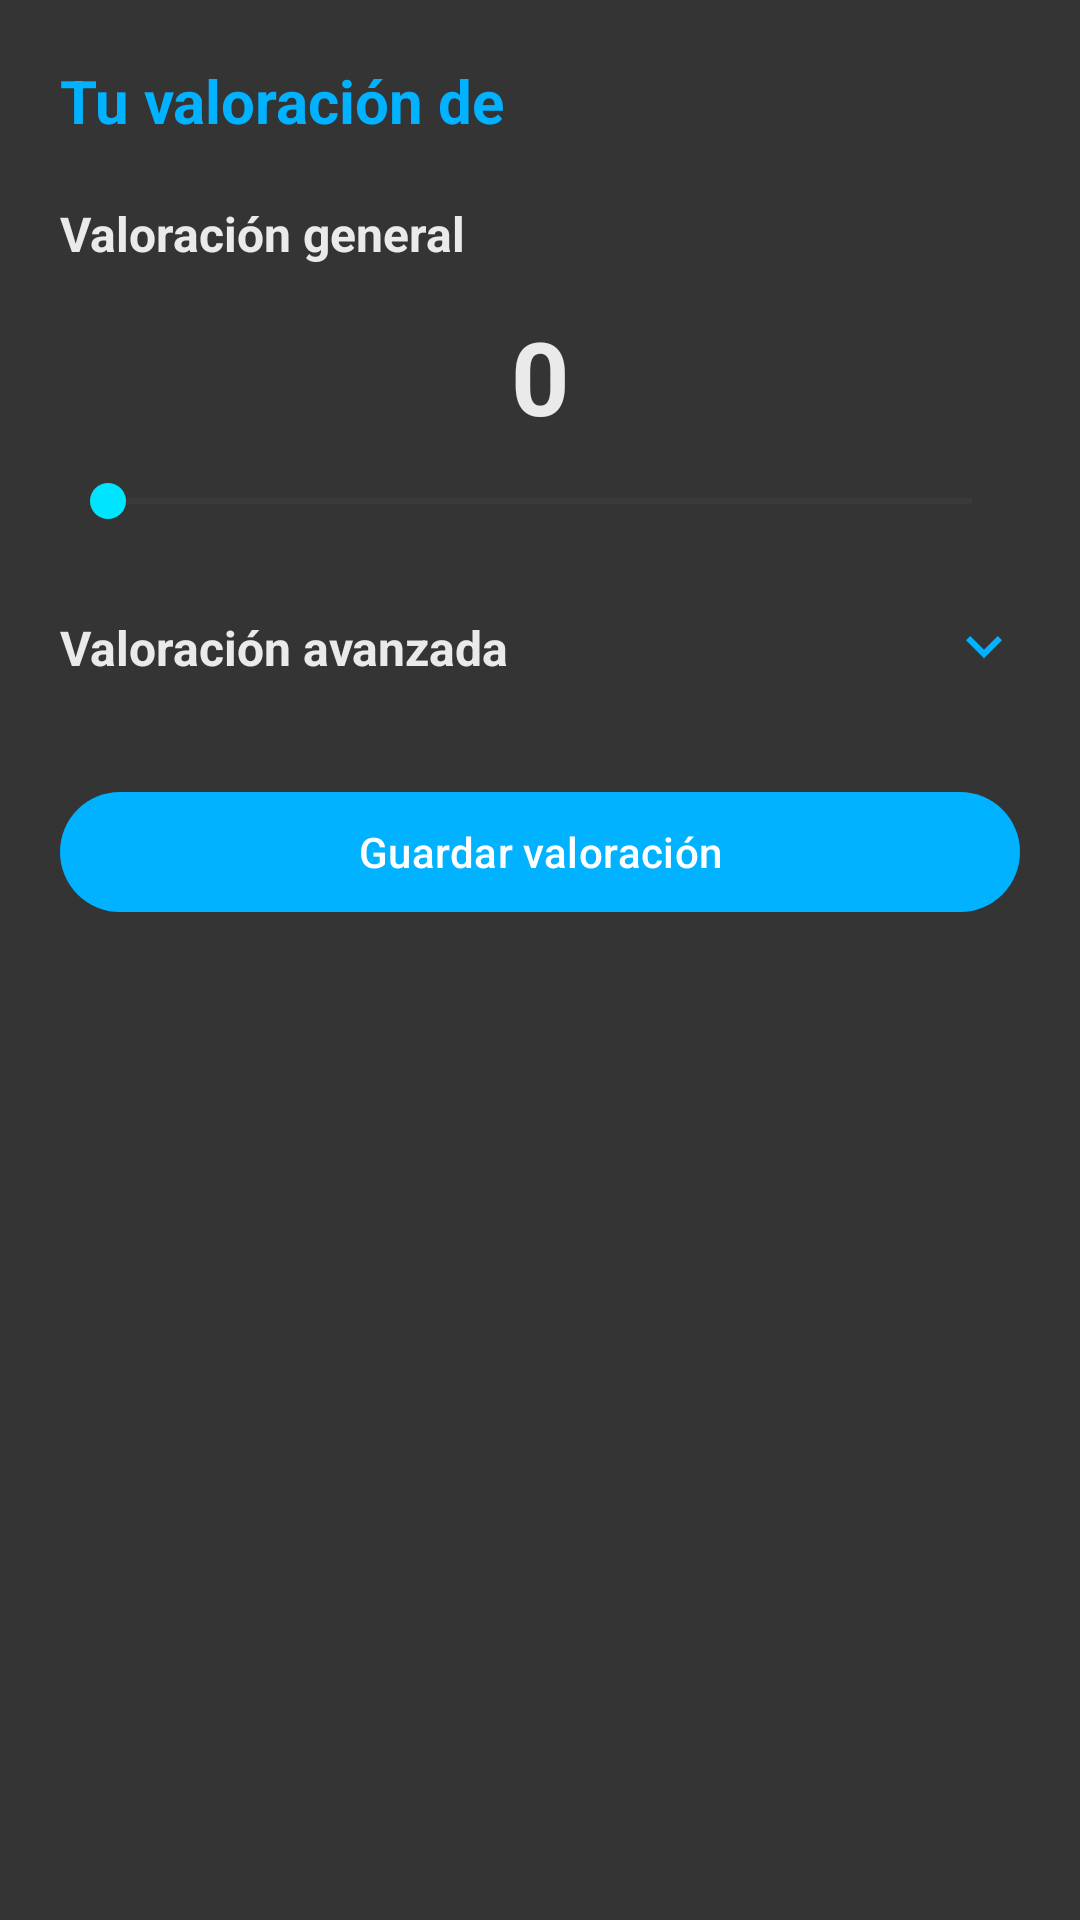

Locate icon controls on the screen. Image size 1080x1920, boxes as (x1, y1, x2, y2).
expand: (966, 636, 1002, 658)
